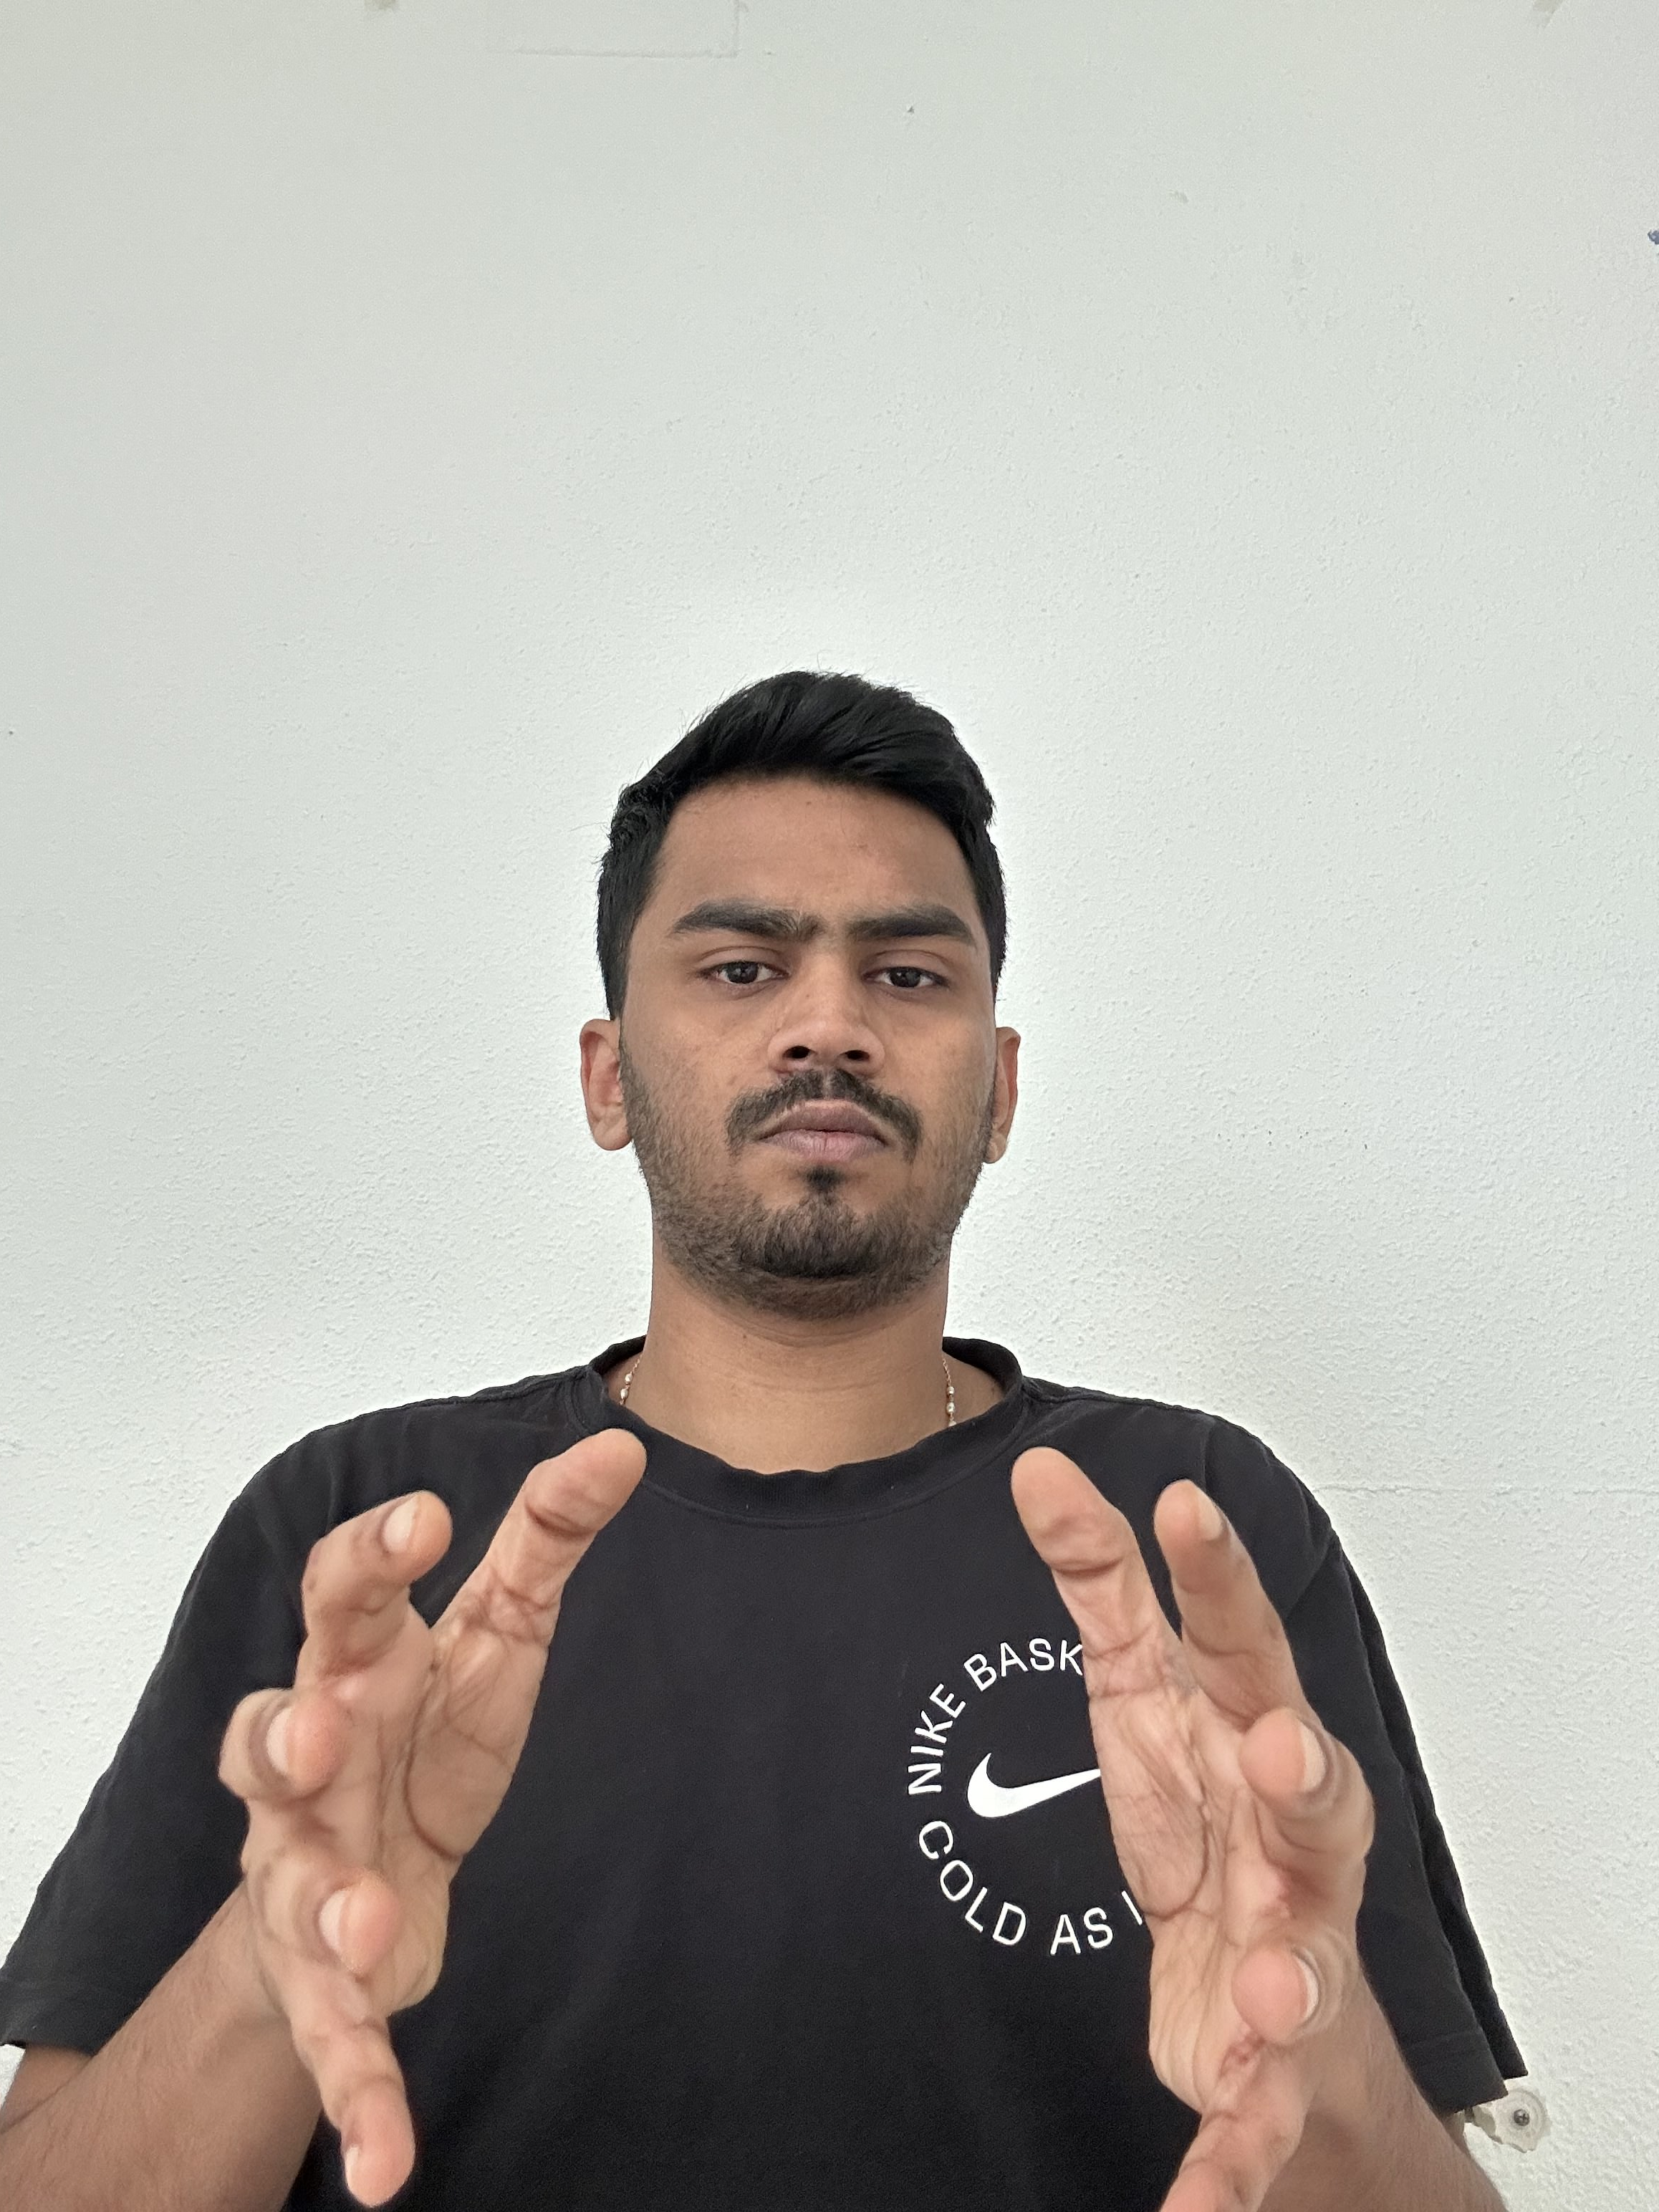explode: (7, 665, 1534, 2203), (899, 1629, 1134, 1965)
